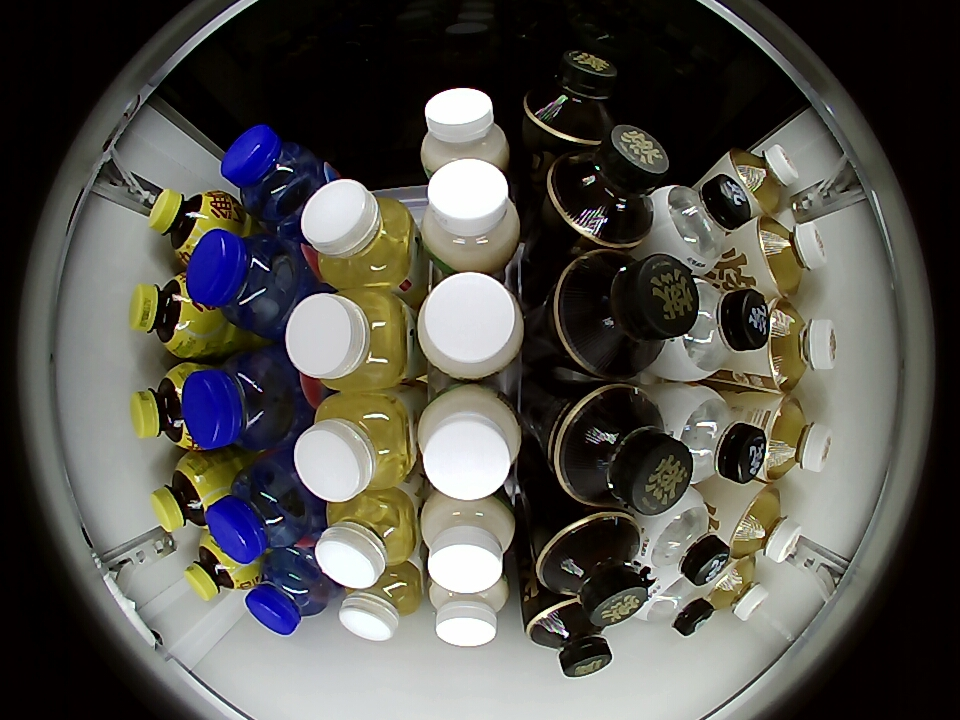chapai2: (293, 393, 414, 502), (299, 177, 416, 289), (285, 288, 409, 392), (316, 490, 417, 589), (339, 563, 423, 641)
maidong: (186, 229, 301, 341), (181, 352, 300, 453), (206, 456, 313, 564), (220, 124, 328, 225), (245, 544, 332, 636)
rancha-1: (554, 250, 700, 379), (554, 384, 694, 514), (548, 125, 670, 248), (536, 511, 651, 626), (523, 50, 617, 146), (525, 597, 612, 678)
rancha-2: (761, 298, 839, 394), (759, 395, 833, 481), (724, 486, 803, 564), (753, 215, 828, 297), (725, 143, 799, 214), (704, 555, 769, 622)
weitaningmeng-bottle: (130, 275, 207, 357), (130, 364, 203, 450), (150, 455, 226, 533), (148, 189, 226, 262), (183, 533, 253, 601)
yousuanru: (417, 384, 524, 500), (417, 272, 527, 381), (420, 159, 525, 273), (420, 490, 518, 593), (419, 87, 513, 179), (428, 571, 510, 647)
yuanqishui: (662, 278, 770, 382), (662, 383, 767, 485), (648, 175, 750, 272), (633, 491, 730, 585), (633, 571, 713, 636)
